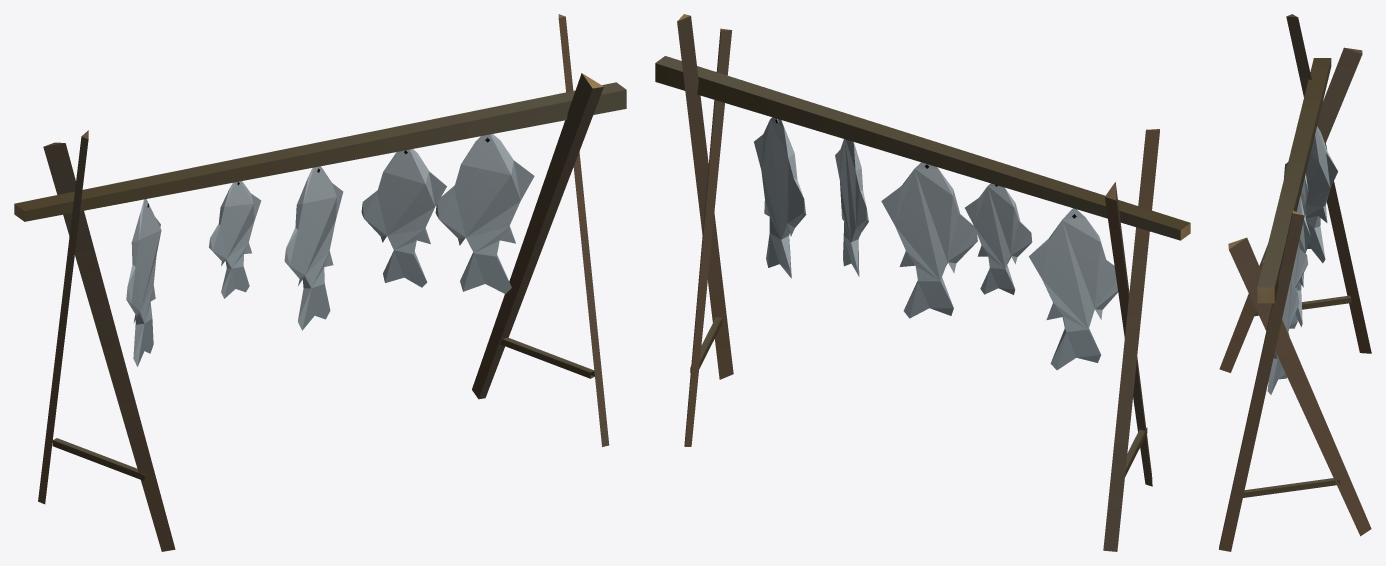
File: Fish_Rack_LOD1.fbx
3 views of the same model, side by side, from view 1: azimuth 30°, elevation 25°; view 2: azimuth 150°, elevation 25°; view 3: azimuth 270°, elevation 25° (orthographic). The views are drawn at different scales.
Parts seen in each view (by area): view 1: polySurface9770; view 2: polySurface9770; view 3: polySurface9770.
Boxes of the visible parts, bbox=[...] form: polySurface9770: bbox=[14, 14, 626, 551]; polySurface9770: bbox=[655, 14, 1190, 551]; polySurface9770: bbox=[1219, 14, 1371, 551].
Size of the model in its own units: 331 by 223 by 90.83.
